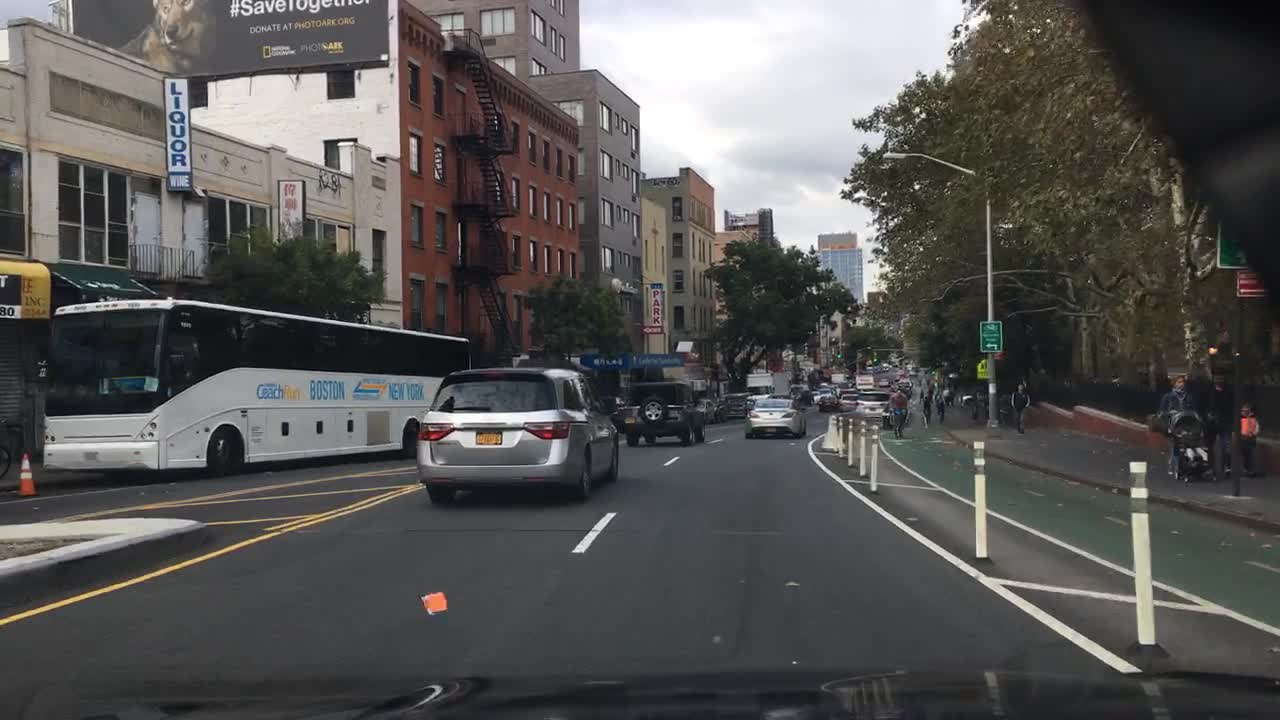bike: (0, 415, 11, 480)
bus: (39, 293, 471, 479)
car: (414, 367, 619, 502), (621, 379, 708, 444), (742, 398, 808, 439), (852, 386, 892, 422), (693, 397, 722, 426), (723, 394, 749, 421), (818, 392, 841, 413), (838, 390, 859, 412), (833, 382, 858, 394), (897, 379, 912, 398), (878, 377, 894, 391), (748, 393, 772, 402), (818, 386, 835, 395), (810, 390, 821, 403), (879, 364, 890, 373), (866, 365, 877, 374)
person: (1159, 373, 1199, 475), (1209, 378, 1235, 477), (1238, 401, 1260, 471), (1010, 381, 1031, 433), (890, 388, 906, 439), (921, 396, 933, 422), (936, 399, 946, 422), (946, 387, 955, 407), (926, 382, 933, 404), (916, 370, 923, 386), (918, 387, 925, 401)
traffic sign: (1215, 219, 1248, 267), (1235, 270, 1268, 297), (977, 319, 1002, 352), (976, 359, 989, 382)
truck: (854, 374, 875, 391)
